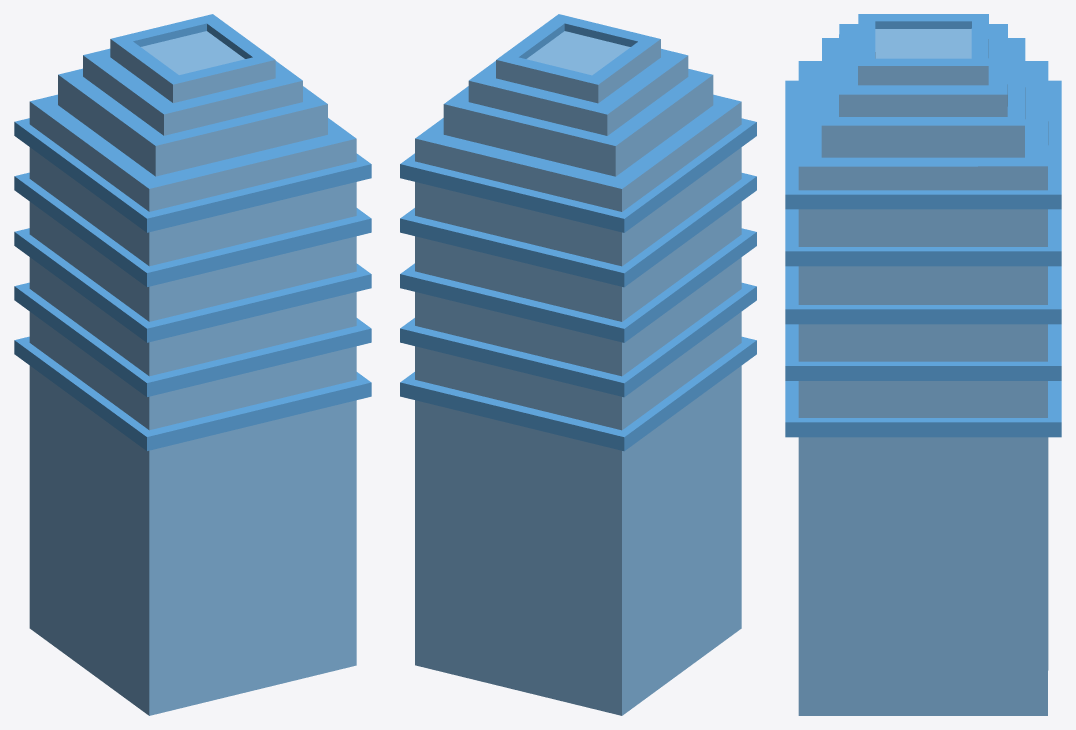
The model's file is house_0wind.fbx.
3 renders of one model, left to right at view 1: azimuth 30°, elevation 25°; view 2: azimuth 150°, elevation 25°; view 3: azimuth 270°, elevation 25°, orthographic. The views are drawn at different scales.
Parts seen in each view (by area): view 1: house_0wind; view 2: house_0wind; view 3: house_0wind.
Part boxes in pixels (bbox=[...]): house_0wind: bbox=[14, 14, 371, 715]; house_0wind: bbox=[400, 14, 756, 715]; house_0wind: bbox=[785, 14, 1061, 715].
Bounding box in the file's own units: 63.49 × 162 × 64.99.
